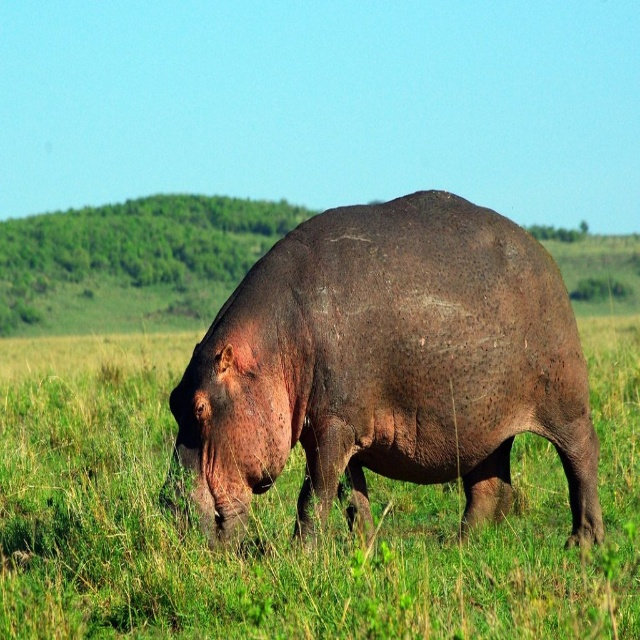Hippopotamus: (159, 190, 605, 582)
